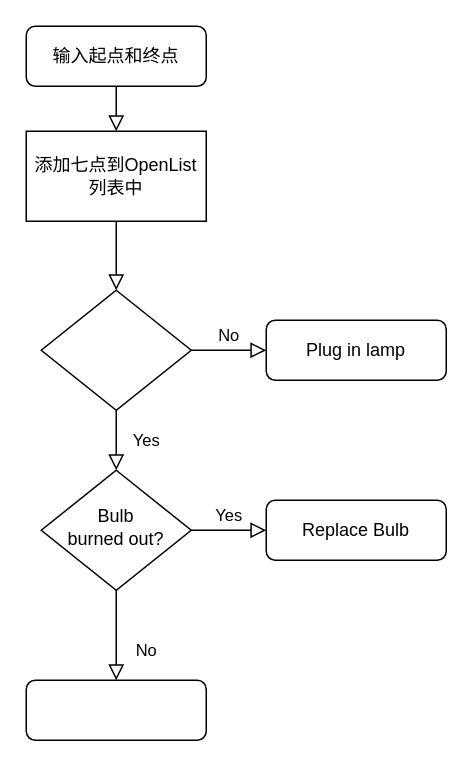
The diagram is 473 pixels wide and 767 high, and some of its shapes have lost their labels. Here are the shapes that lost their labels. From the top down, the box of each, then its label:
(40, 289, 191, 410): Lamp plugged in?
(25, 679, 206, 740): Repair Lamp
